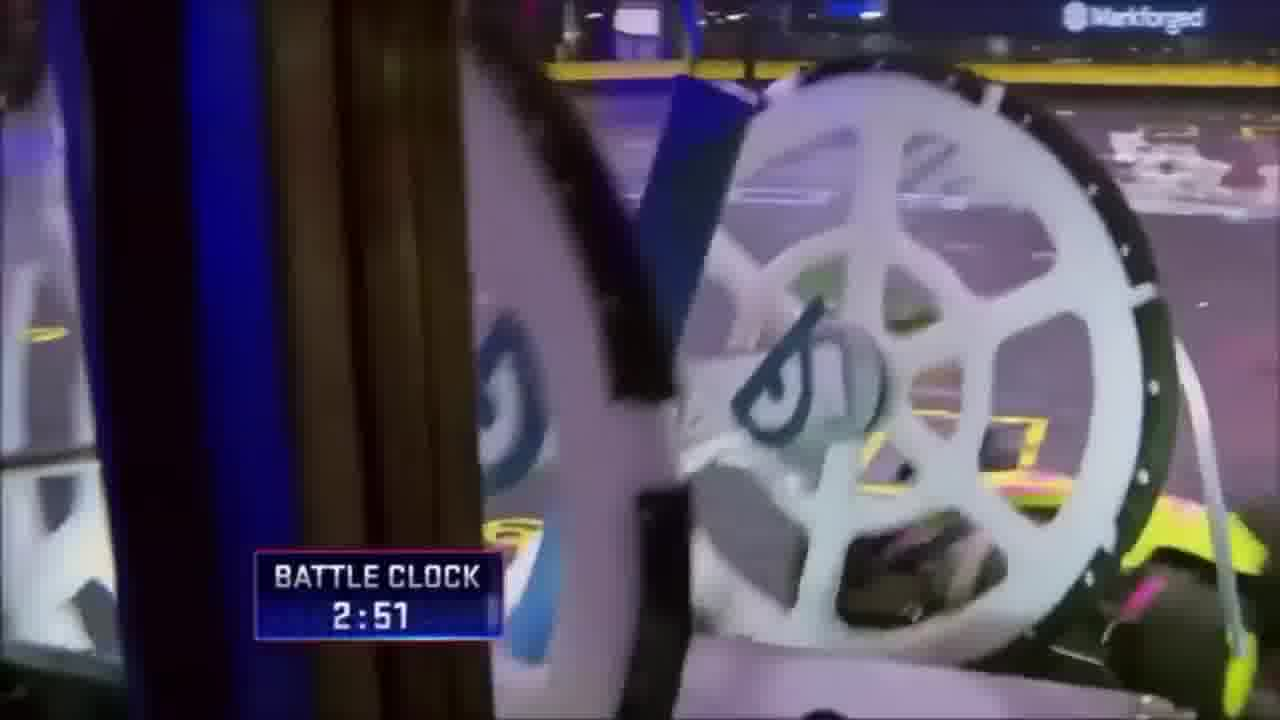combatbot: (788, 420, 1267, 695)
